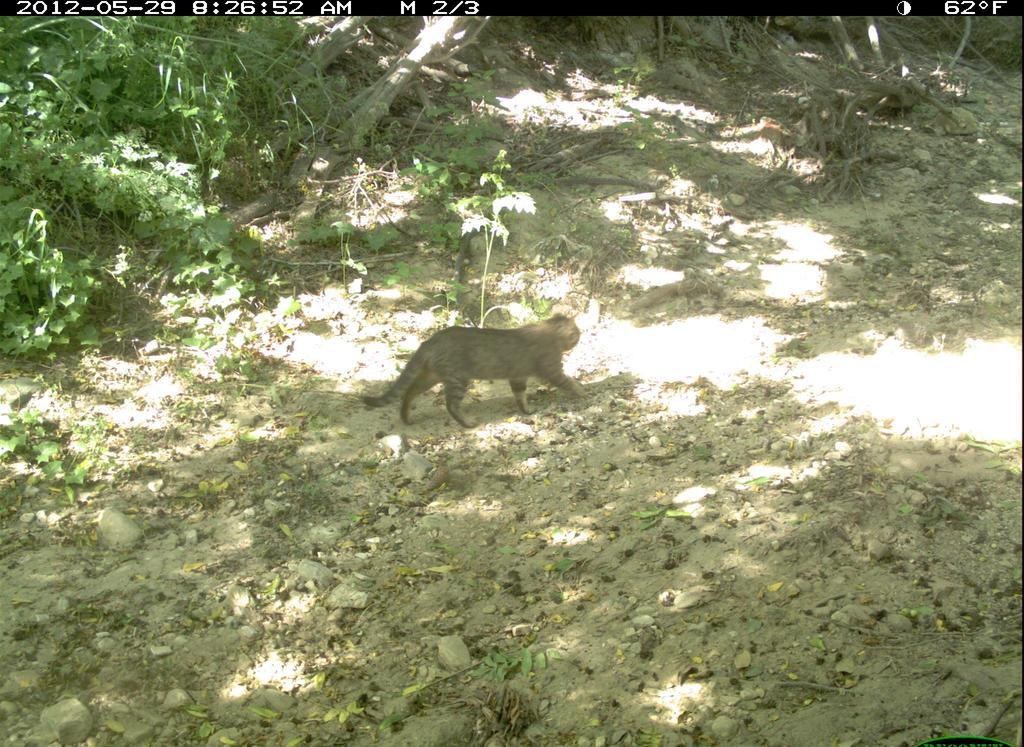cat: (355, 310, 583, 438)
